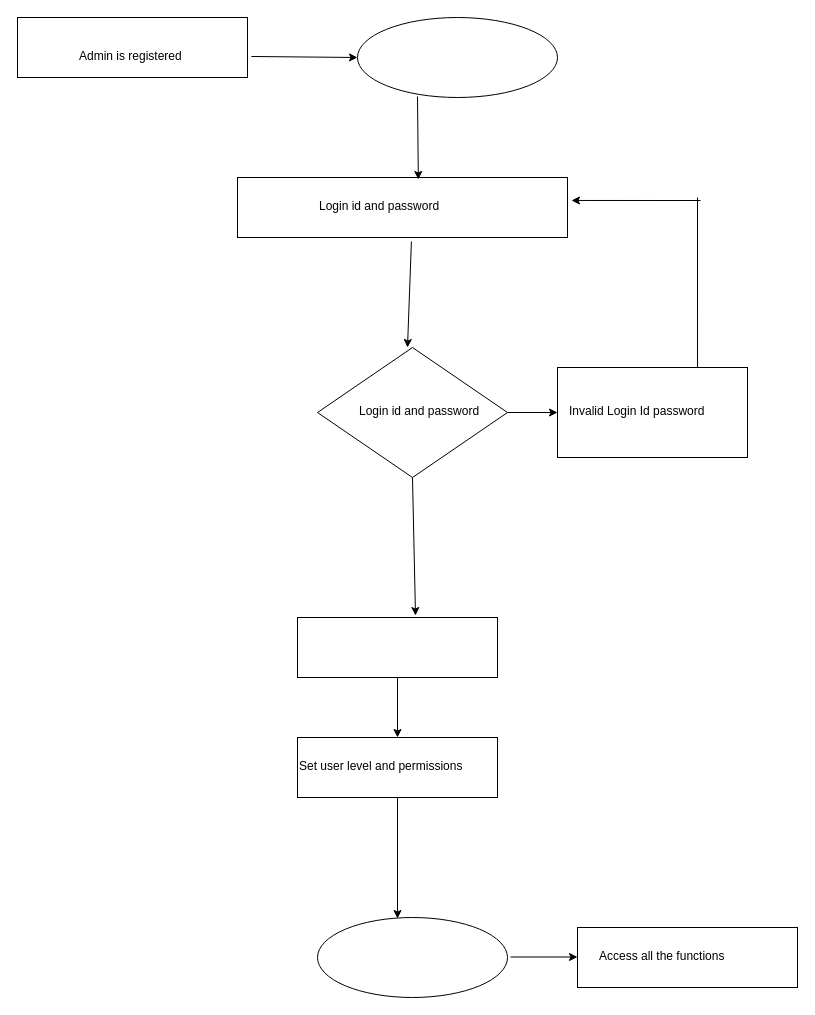
This 815x1015 diagram has some shape labels left out. Each missing label, with the centre of its shape:
"End" goes at pixel 412 957.
"Login to the system successfully" goes at pixel 397 647.
"Start" goes at pixel 457 57.
